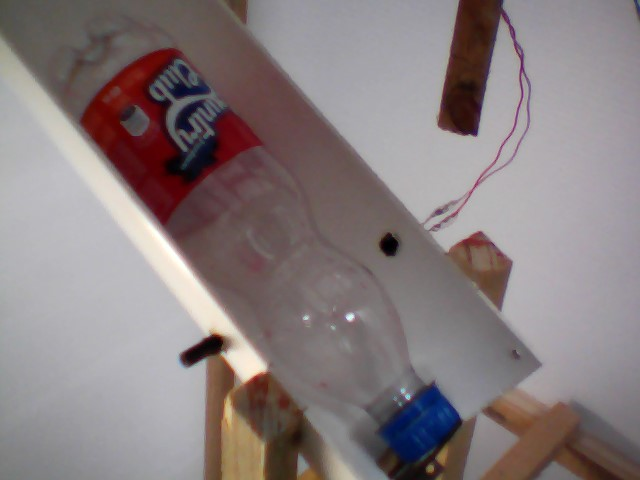plastico: (41, 13, 462, 472)
